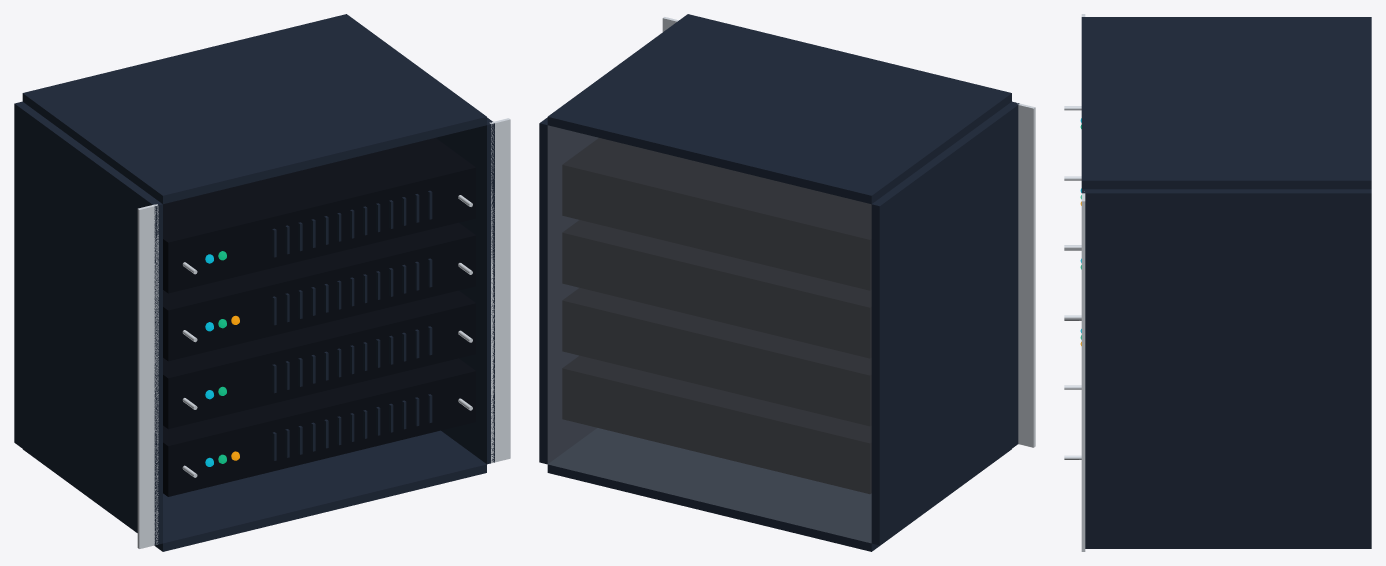
File: server.gltf
3 renders of one model, left to right at view 1: azimuth 30°, elevation 25°; view 2: azimuth 150°, elevation 25°; view 3: azimuth 270°, elevation 25°, orthographic. The views are drawn at different scales.
Parts seen in each view (by area): view 1: ServerRack, Blade_3, Blade_0, Blade_1, Blade_2; view 2: ServerRack, Blade_3, Blade_0, Blade_1, Blade_2; view 3: ServerRack.
Boxes of the visible parts, <box> form: ServerRack: <box>14,14,510,551</box>; Blade_3: <box>163,138,475,293</box>; Blade_0: <box>163,358,475,496</box>; Blade_1: <box>163,290,475,429</box>; Blade_2: <box>163,222,475,361</box>; ServerRack: <box>539,14,1035,551</box>; Blade_3: <box>562,138,871,290</box>; Blade_0: <box>562,355,871,494</box>; Blade_1: <box>562,287,871,426</box>; Blade_2: <box>562,220,871,358</box>; ServerRack: <box>1081,14,1371,551</box>.
Bounding box in the file's own units: 2.29 × 2.1 × 1.59.
